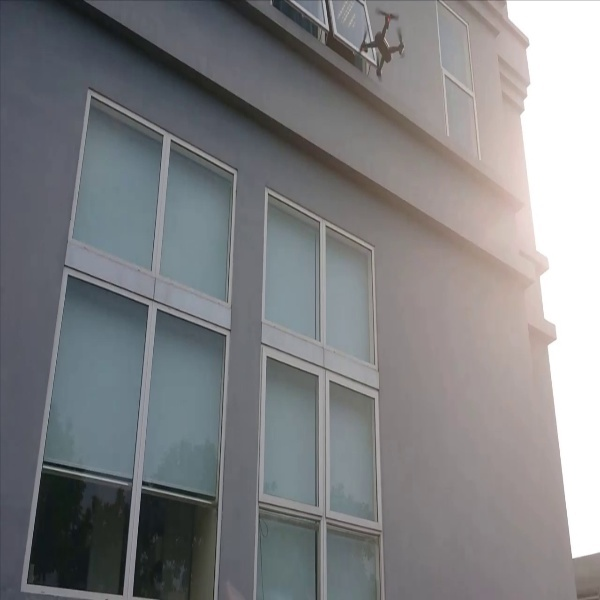drone: (352, 5, 410, 85)
